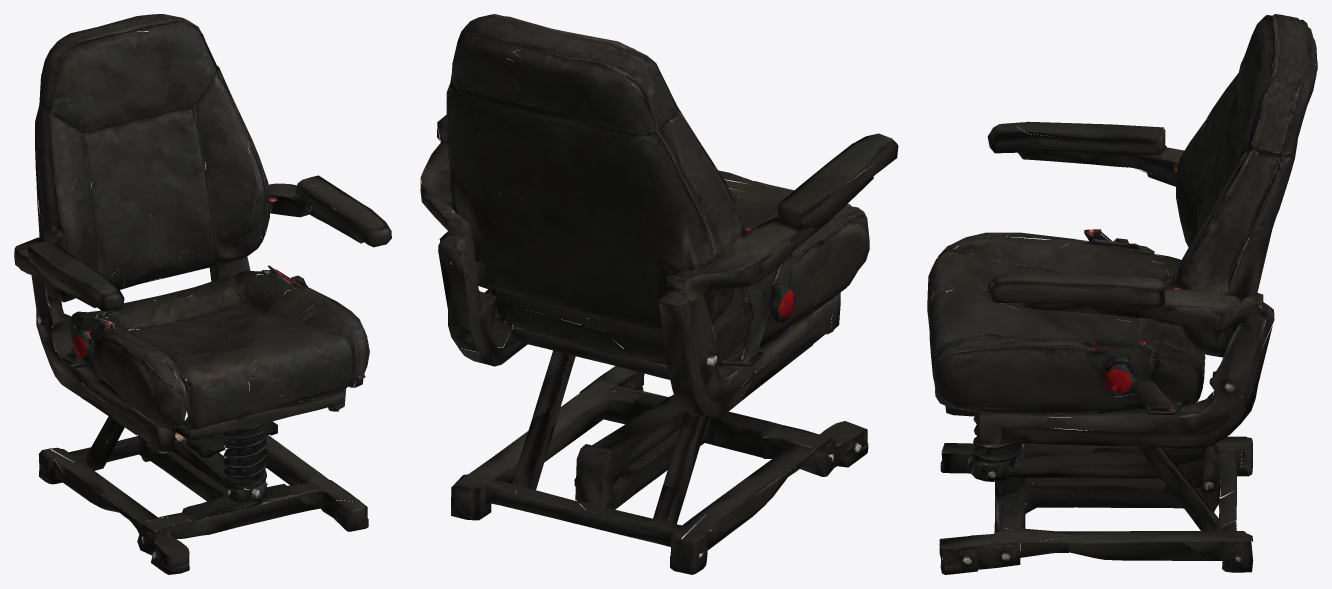
Rendered from cabine-banco.glb.
3 views of the same model, side by side, from view 1: azimuth 30°, elevation 25°; view 2: azimuth 150°, elevation 25°; view 3: azimuth 270°, elevation 25° (orthographic). The views are drawn at different scales.
Parts seen in each view (by area): view 1: cabine-banco; view 2: cabine-banco; view 3: cabine-banco.
Boxes of the visible parts, x1,y1,x2,y2 form: cabine-banco: (14, 14, 391, 574); cabine-banco: (420, 14, 898, 574); cabine-banco: (927, 14, 1317, 574).
Size of the model in its own units: 0.7285 by 0.98 by 0.7257.
1 material, 1 textured.
